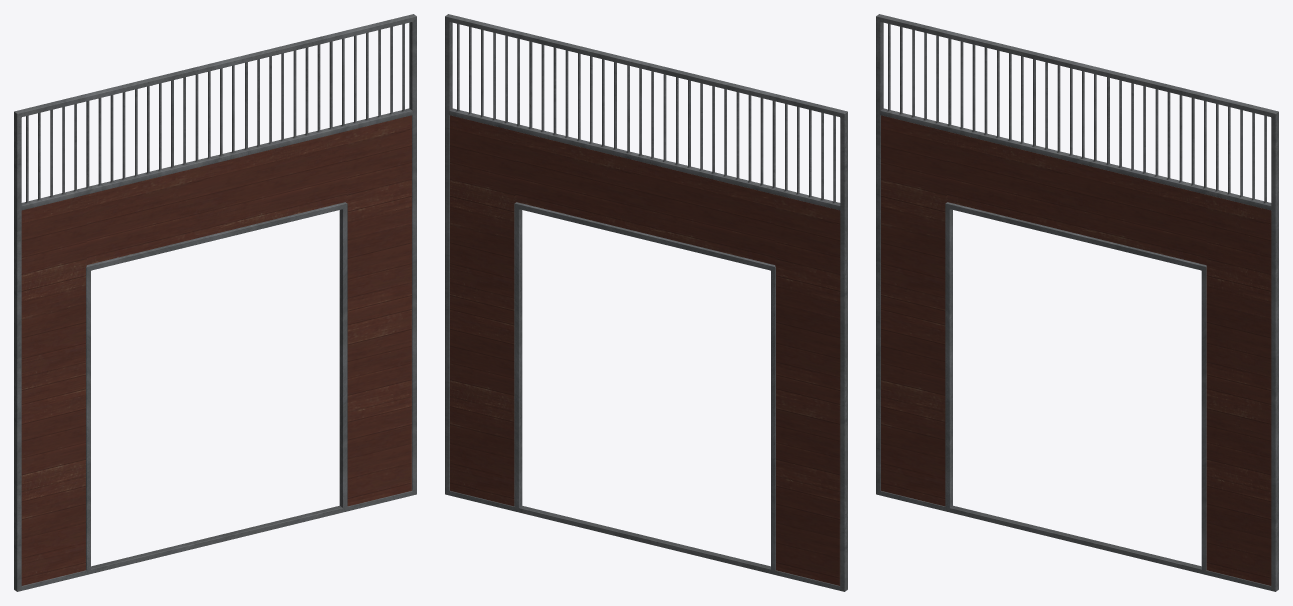
File: Pen_01_Wall_Door.fbx
The picture shows the model from 3 angles, left to right: view 1: azimuth 30°, elevation 25°; view 2: azimuth 150°, elevation 25°; view 3: azimuth 330°, elevation 25°; orthographic projection.
Parts seen in each view (by area): view 1: Pen_01_Wall_Door; view 2: Pen_01_Wall_Door; view 3: Pen_01_Wall_Door.
Part boxes in pixels (bbox=[...]): Pen_01_Wall_Door: bbox=[14, 14, 416, 591]; Pen_01_Wall_Door: bbox=[445, 14, 847, 591]; Pen_01_Wall_Door: bbox=[876, 14, 1278, 591].
Size of the model in its own units: 350 by 400 by 5.
